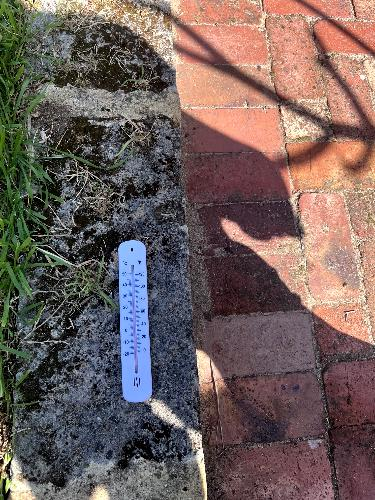thermo: (119, 242, 153, 400)
